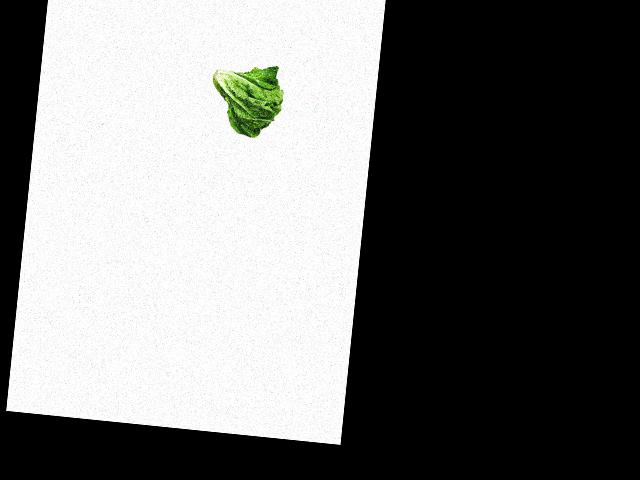lettuce: (203, 60, 286, 141)
